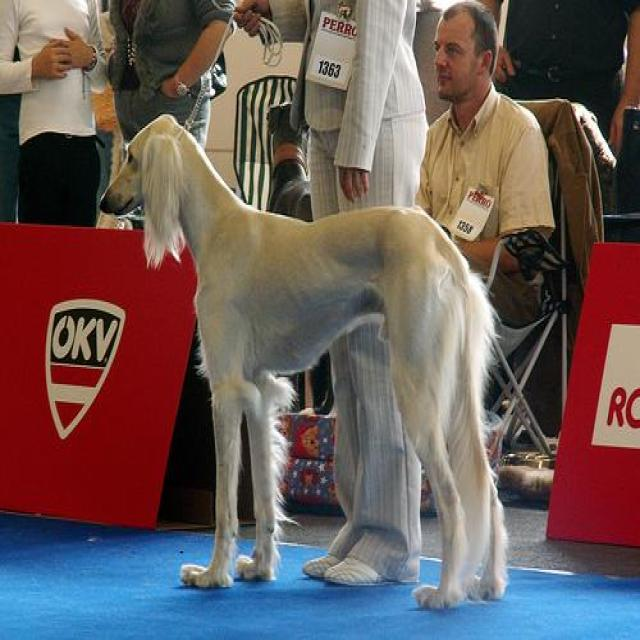saluki: (100, 112, 509, 612)
